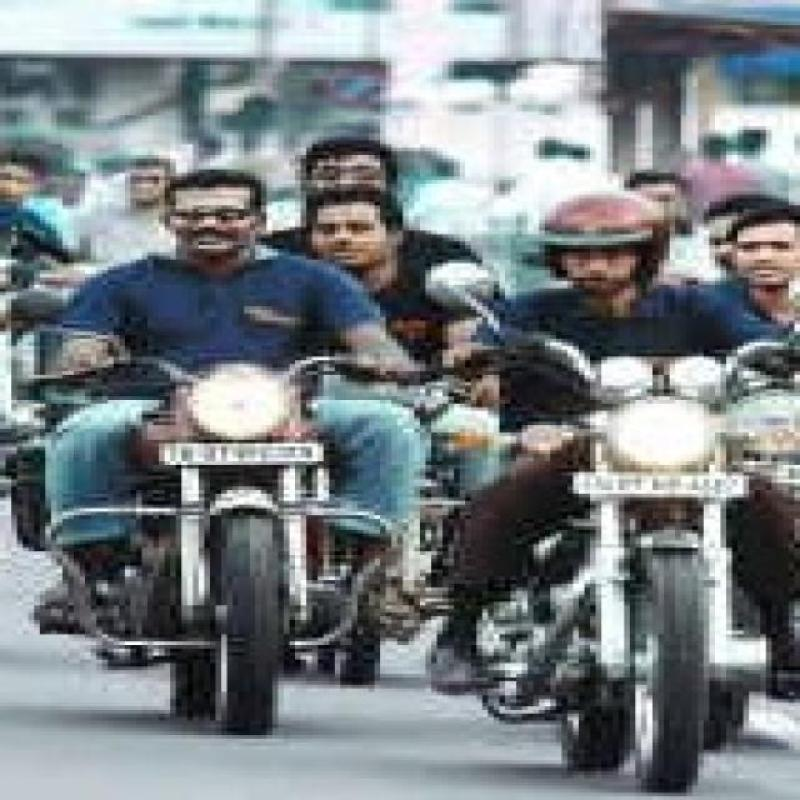nohelmet: (130, 156, 304, 278)
